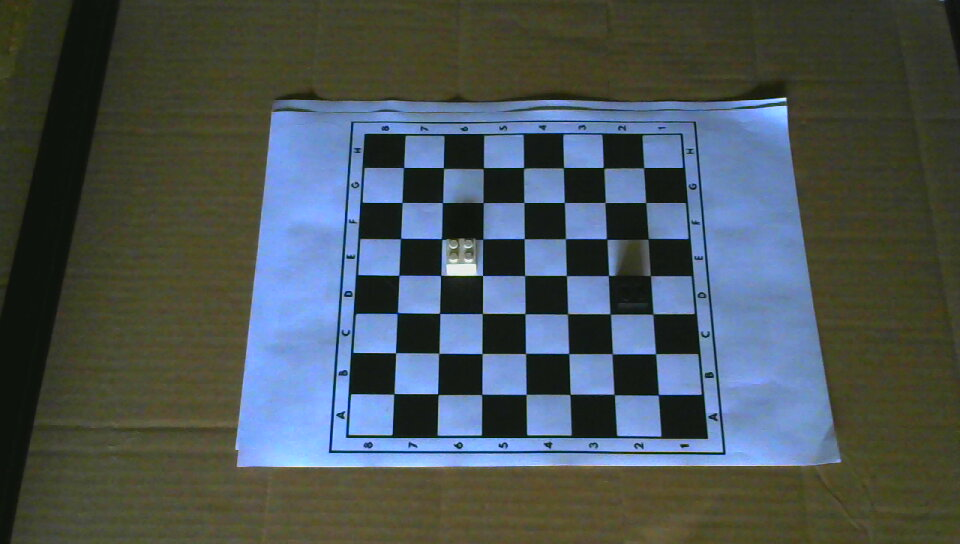bp: (611, 272, 653, 310)
wp: (443, 234, 480, 274)
